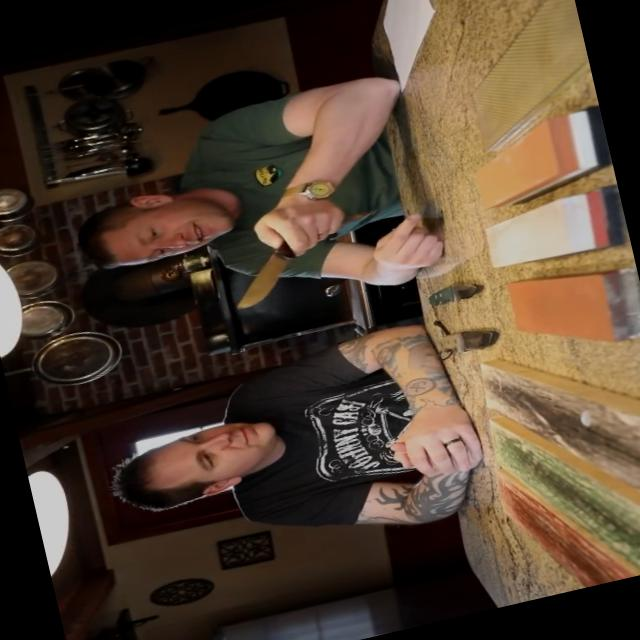knife: (206, 204, 336, 319)
